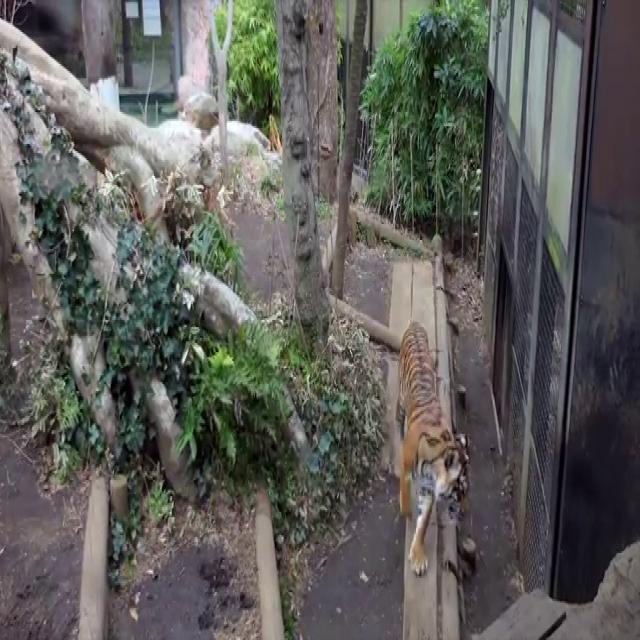tiger: (396, 320, 470, 576)
